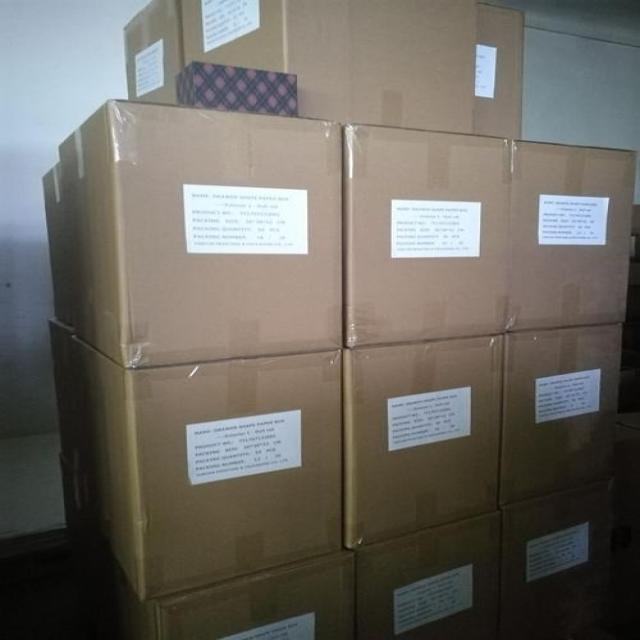box: (56, 101, 344, 367), (73, 336, 346, 602), (179, 0, 475, 133), (343, 123, 511, 347), (81, 512, 357, 640), (344, 334, 506, 551), (507, 137, 637, 334), (499, 322, 625, 510), (356, 511, 499, 640), (499, 481, 613, 640), (175, 61, 297, 117), (476, 3, 525, 138), (127, 0, 183, 106), (40, 162, 72, 327), (47, 315, 77, 485)
